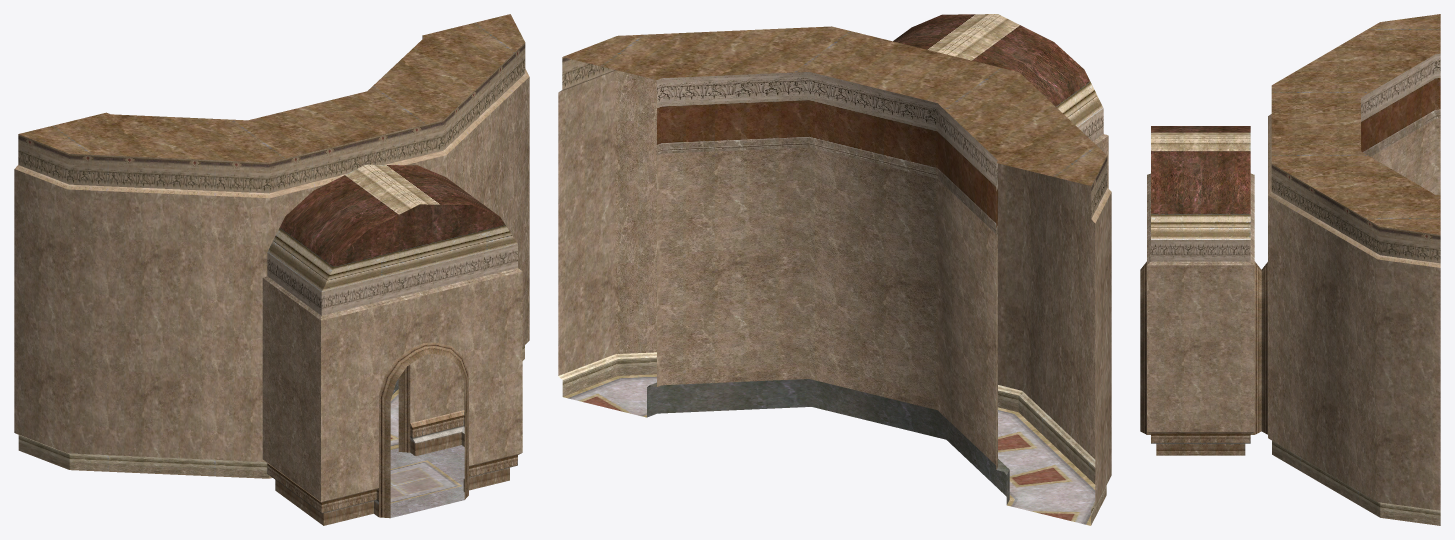
File: thm_nboo_thed_theed_palace_r1_mesh_r1.fbx
3 renders of one model, left to right at view 1: azimuth 30°, elevation 25°; view 2: azimuth 150°, elevation 25°; view 3: azimuth 270°, elevation 25°, orthographic. The views are drawn at different scales.
Visible parts, largest first — view 1: mesh_node; view 2: mesh_node; view 3: mesh_node.
Part boxes in pixels (x1,y1,x2,y2): mesh_node: [14, 14, 529, 525]; mesh_node: [558, 14, 1111, 525]; mesh_node: [1140, 14, 1440, 525].
Bounding box in the file's own units: 14.88 × 9 × 8.42.
